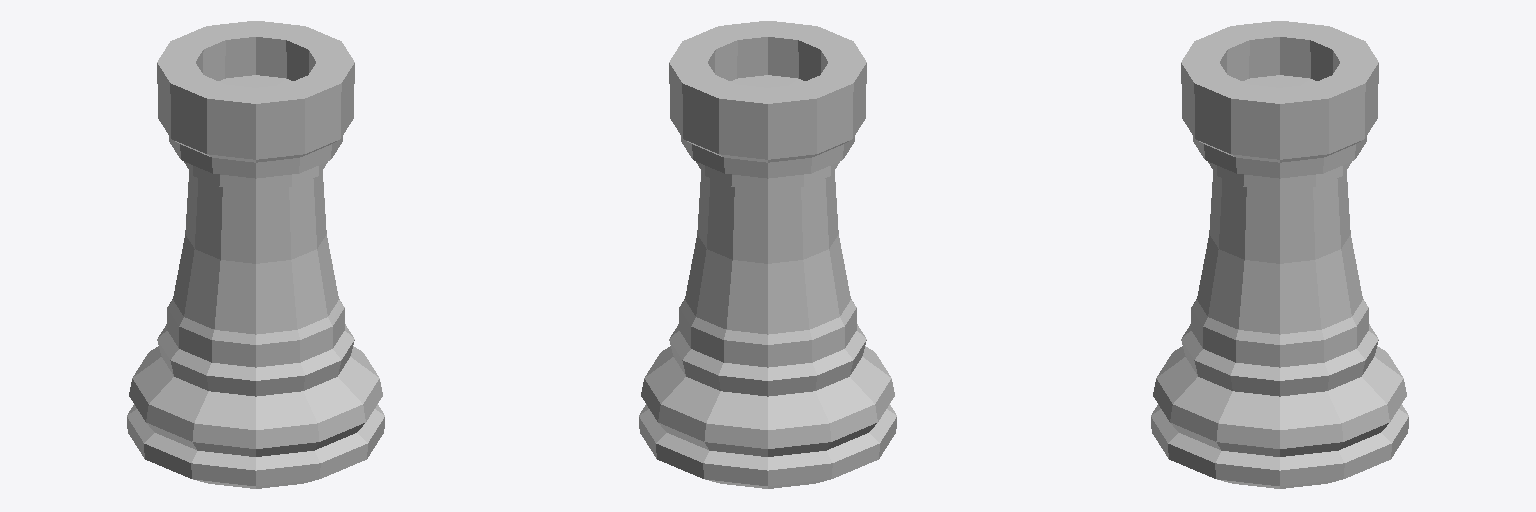
The model's file is Torre_tri.obj.
3 views of the same model, side by side, from view 1: azimuth 30°, elevation 25°; view 2: azimuth 150°, elevation 25°; view 3: azimuth 270°, elevation 25° (orthographic).
Visible parts, largest first — view 1: Cubo; view 2: Cubo; view 3: Cubo.
Boxes of the visible parts, x1,y1,x2,y2 form: Cubo: [127, 21, 384, 488]; Cubo: [639, 21, 896, 488]; Cubo: [1151, 21, 1408, 488].
Bounding box in the file's own units: 2.28 × 3.77 × 2.28.